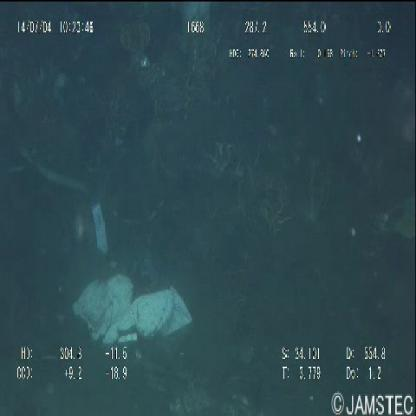Rác: (75, 274, 194, 344)
